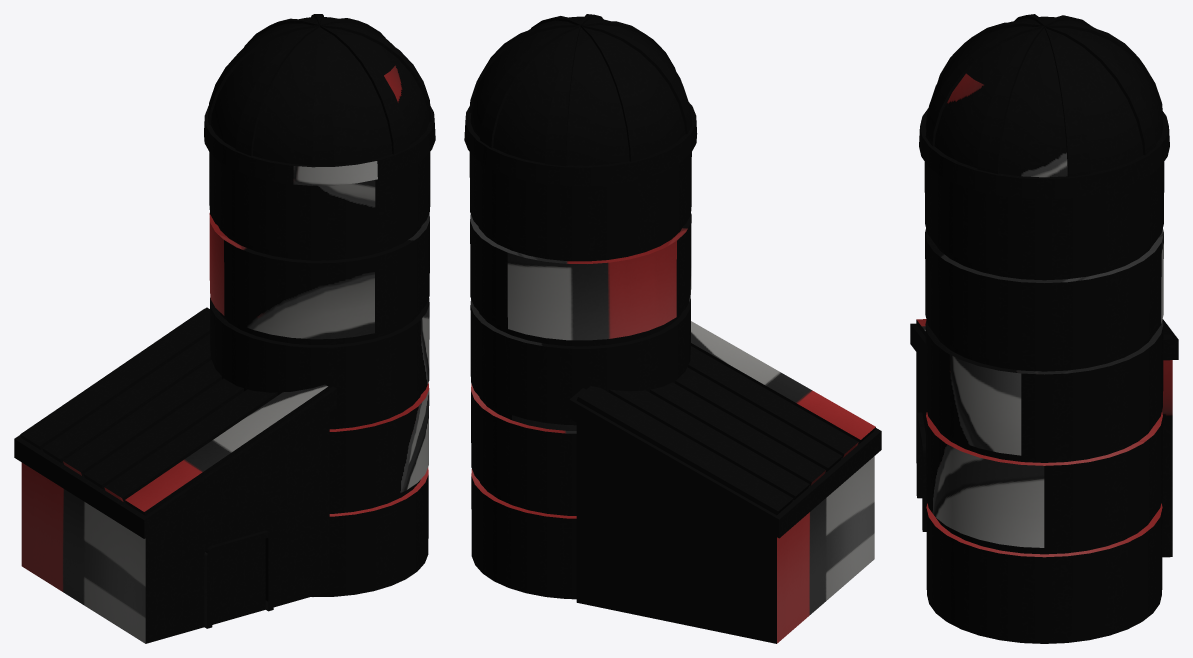
File: GrainSilo.fbx
The picture shows the model from 3 angles, left to right: view 1: azimuth 30°, elevation 25°; view 2: azimuth 150°, elevation 25°; view 3: azimuth 270°, elevation 25°; orthographic projection. The views are drawn at different scales.
Parts seen in each view (by area): view 1: GrainSilo; view 2: GrainSilo; view 3: GrainSilo.
Boxes of the visible parts, x1,y1,x2,y2 form: GrainSilo: (14,14,435,643); GrainSilo: (464,14,881,643); GrainSilo: (910,14,1178,643).
Bounding box in the file's own units: 366 × 523 × 224.
